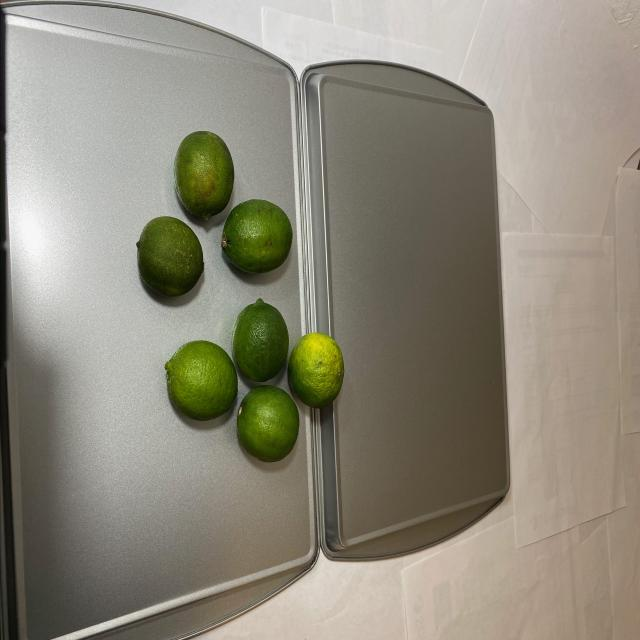lemon: (139, 127, 345, 460)
